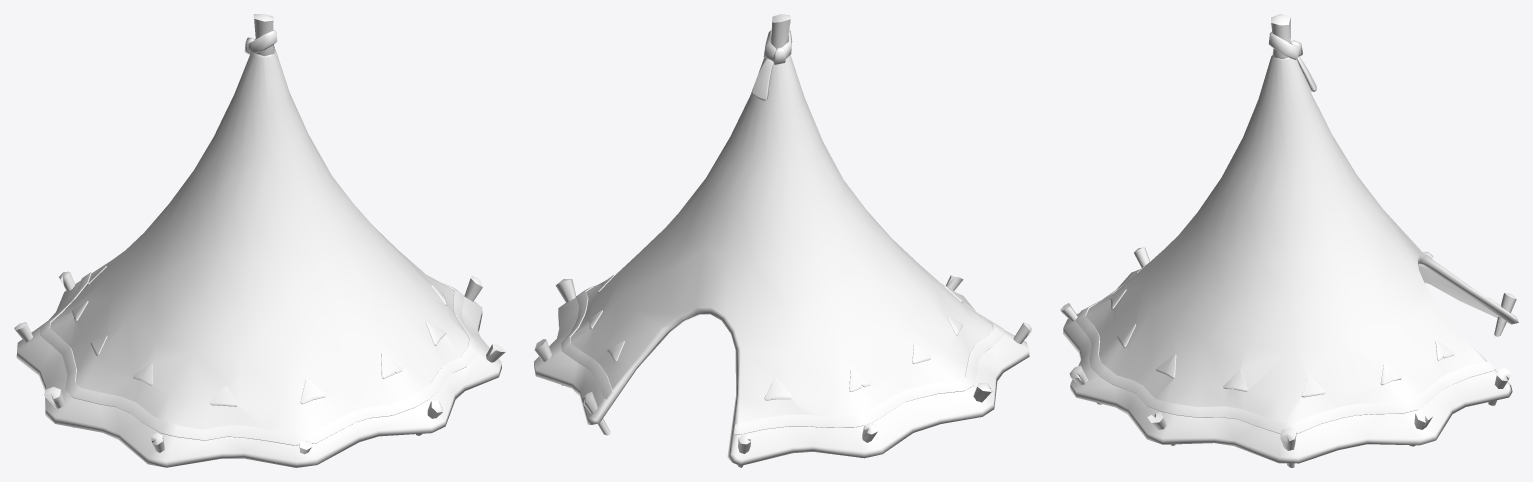
The model's file is Prop_AP24Tent.glb.
3 views of the same model, side by side, from view 1: azimuth 30°, elevation 25°; view 2: azimuth 150°, elevation 25°; view 3: azimuth 270°, elevation 25° (orthographic). The views are drawn at different scales.
Visible parts, largest first — view 1: Prop_AP24Tent; view 2: Prop_AP24Tent; view 3: Prop_AP24Tent.
Part boxes in pixels (x1,y1,x2,y2): Prop_AP24Tent: [14, 14, 505, 467]; Prop_AP24Tent: [534, 14, 1031, 467]; Prop_AP24Tent: [1060, 14, 1518, 467].
Bounding box in the file's own units: 4.01 × 3.21 × 3.72.
Materials: 1 (1 with a texture image).
